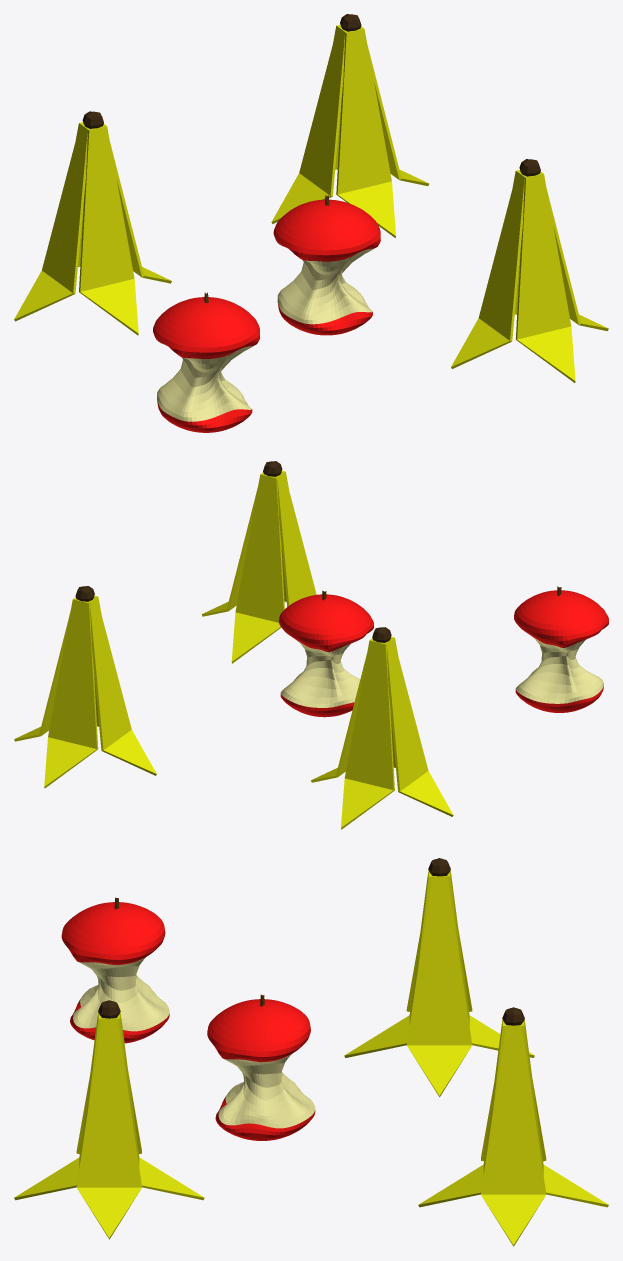
Rendered from Compost 1.fbx.
The picture shows the model from 3 angles, top to bottom: view 1: azimuth 30°, elevation 25°; view 2: azimuth 150°, elevation 25°; view 3: azimuth 270°, elevation 25°; orthographic projection. The views are drawn at different scales.
Visible parts, largest first — view 1: Apple.001, Apple, Plane.004, Plane.002, Plane, Plane.005, Plane.003, Plane.001; view 2: Apple, Apple.001, Plane, Plane.002, Plane.004, Plane.001, Plane.003, Plane.005; view 3: Apple.001, Apple, Plane.001, Plane.005, Plane.003, Plane, Plane.004, Plane.002.
Boxes of the visible parts, x1,y1,x2,y2 form: Apple.001: (273,199,380,335); Apple: (153,297,259,432); Plane.004: (513,169,575,382); Plane.002: (76,122,138,335); Plane: (333,24,395,237); Plane.005: (451,171,608,368); Plane.003: (14,124,171,321); Plane.001: (271,26,429,223); Apple: (514,590,608,712); Apple.001: (279,594,373,717); Plane: (44,595,101,788); Plane.002: (341,636,398,829); Plane.004: (231,470,288,663); Plane.001: (14,597,156,775); Plane.003: (311,638,453,816); Plane.005: (201,472,316,616); Apple.001: (207,999,315,1140); Apple: (61,902,169,1043); Plane.001: (481,1025,546,1246); Plane.005: (76,1018,141,1239); Plane.003: (406,875,472,1097); Plane: (418,1019,608,1207); Plane.004: (14,1012,204,1200); Plane.002: (344,870,534,1057).
Size of the model in its own units: 276 by 110 by 296.
